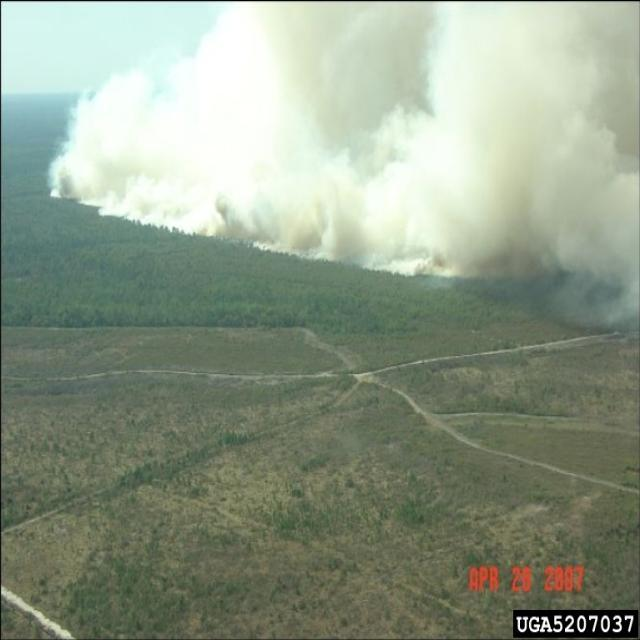Smoke: (46, 0, 640, 333)
